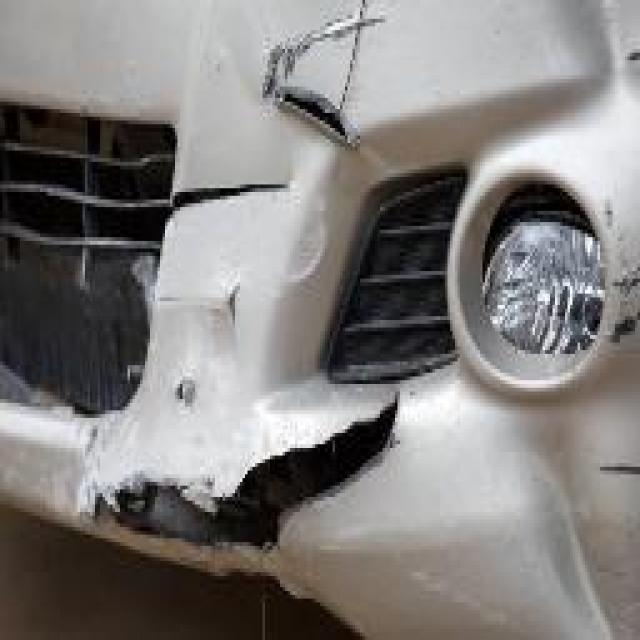Bumper: (58, 4, 638, 640)
